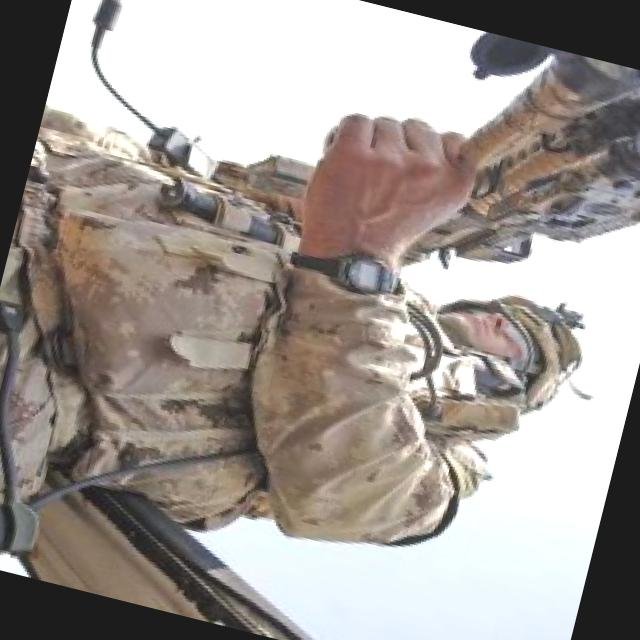knife: (252, 0, 639, 346)
